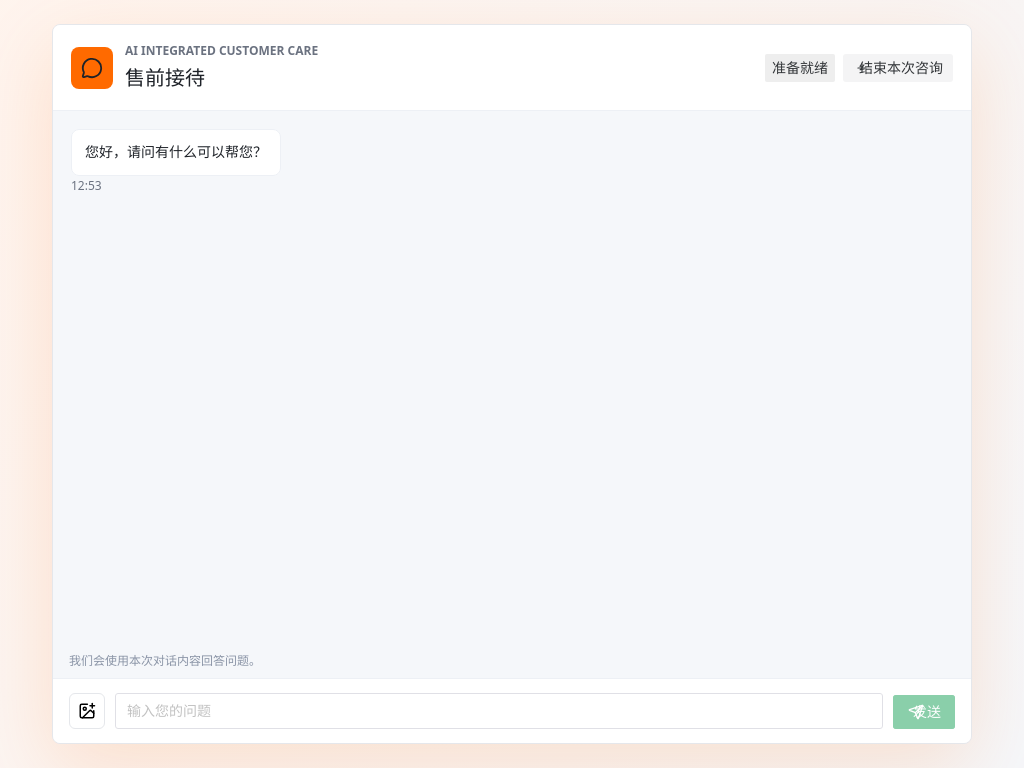
it: PublicAICCChatPage › shows a queued placeholder after the visitor message is accepted asynchronously
The width and height of the screenshot is (1024, 768).
Type "异步问题" into the text box with placeholder "输入您的问题" at (499, 711), box [127, 693, 871, 729]
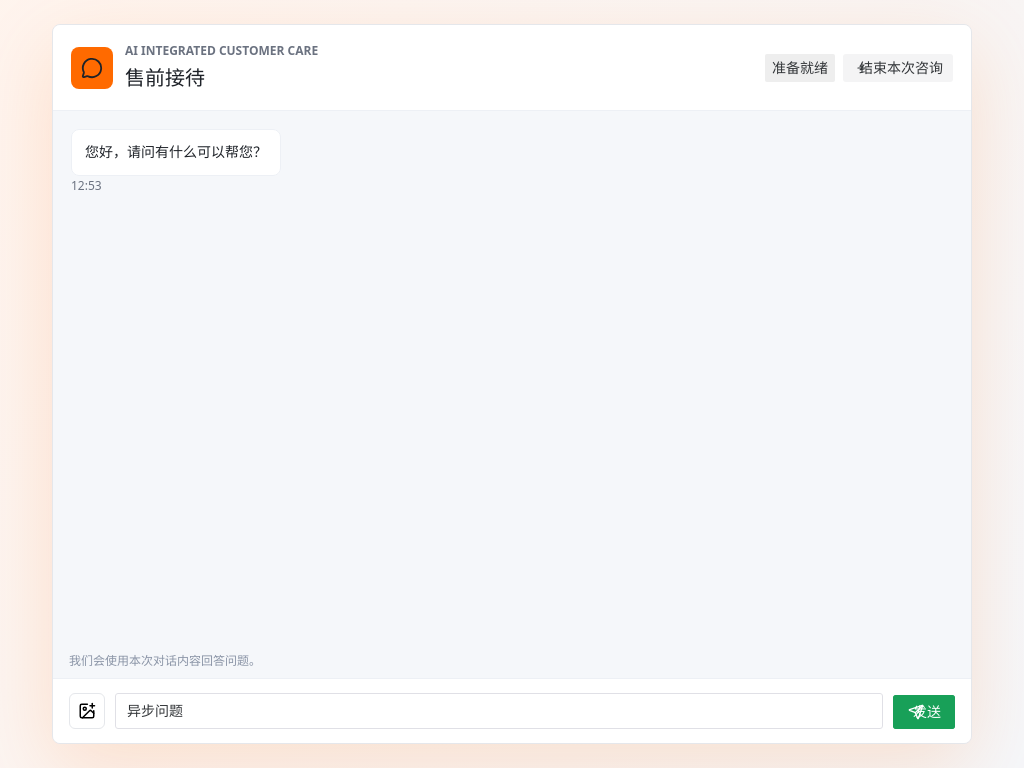
Submit the form with class "composer", box [53, 678, 971, 743]
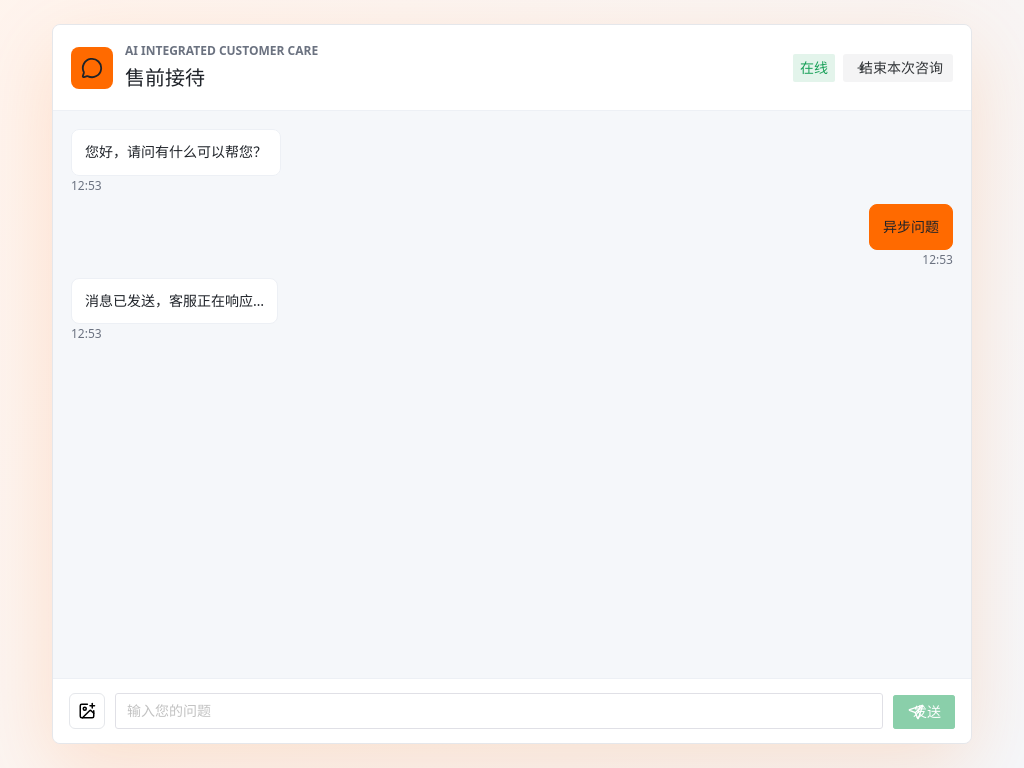
Expected: the text "异步问题" is shown, [883, 216, 939, 238]
Expected: the text "消息已发送，客服正在响应…" is shown, [85, 290, 264, 312]
